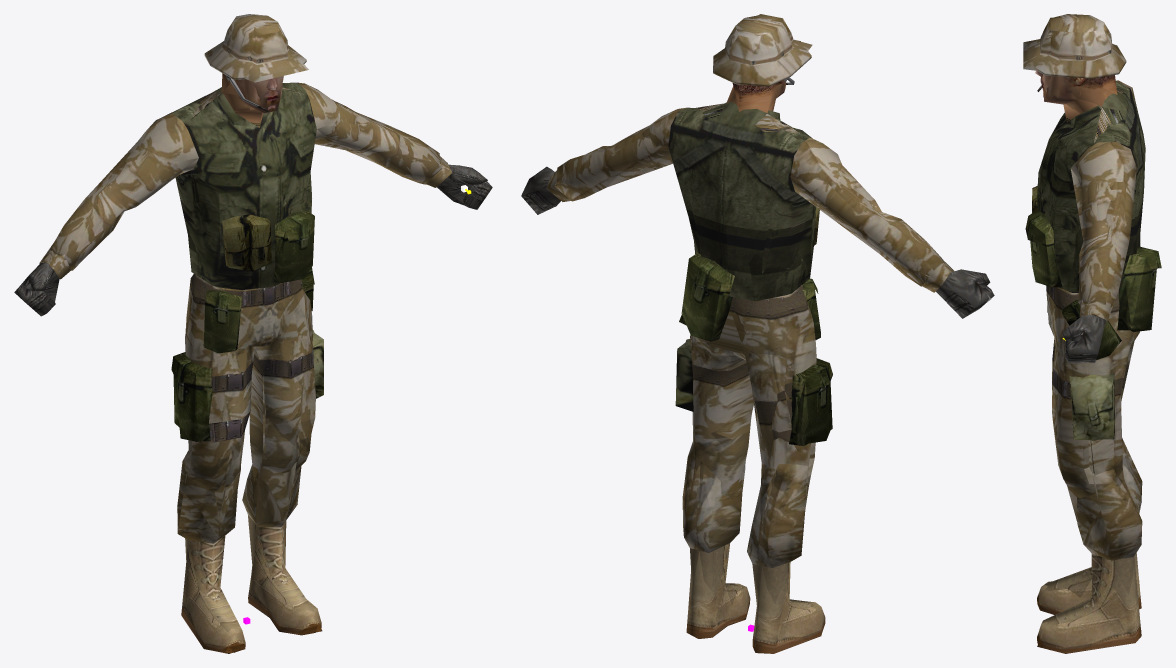
File: SAS3.glb
3 views of the same model, side by side, from view 1: azimuth 30°, elevation 25°; view 2: azimuth 150°, elevation 25°; view 3: azimuth 270°, elevation 25° (orthographic).
Parts seen in each view (by area): view 1: 01 Mesh0, 01 Mesh0.003, 01 Mesh0.001, 01 Mesh0.002, 01 Mesh1, 01 Mesh1.001, 01 Mesh2.003, 01 Mesh2; view 2: 01 Mesh0, 01 Mesh0.003, 01 Mesh0.001, 01 Mesh0.002, 01 Mesh1, 01 Mesh2.003; view 3: 01 Mesh0, 01 Mesh0.003, 01 Mesh0.001, 01 Mesh1, 01 Mesh0.002, 01 Mesh1.001, 01 Mesh2, 01 Mesh2.002, 01 Mesh2.003, 01 Mesh2.001.
Part boxes in pixels (x1,y1,x2,y2): 01 Mesh0: (17,75,492,652); 01 Mesh0.003: (24,87,471,632); 01 Mesh0.001: (14,95,482,630); 01 Mesh0.002: (39,82,451,653); 01 Mesh1: (204,14,306,79); 01 Mesh1.001: (244,19,308,82); 01 Mesh2.003: (221,73,283,127); 01 Mesh2: (224,79,282,111); 01 Mesh0: (521,77,993,653); 01 Mesh0.003: (592,103,989,653); 01 Mesh0.001: (537,126,994,643); 01 Mesh0.002: (546,110,988,621); 01 Mesh1: (713,15,811,86); 01 Mesh2.003: (733,83,776,112); 01 Mesh0: (1025,80,1161,653); 01 Mesh0.003: (1043,89,1145,642); 01 Mesh0.001: (1054,92,1139,635); 01 Mesh1: (1027,14,1126,78); 01 Mesh0.002: (1037,81,1134,652); 01 Mesh1.001: (1023,17,1125,70); 01 Mesh2: (1037,71,1106,112); 01 Mesh2.002: (1041,76,1112,109); 01 Mesh2.003: (1042,74,1117,122); 01 Mesh2.001: (1035,70,1107,113).
Size of the model in its own units: 1.61 by 2.01 by 0.4144.
6 materials, 3 textured.
